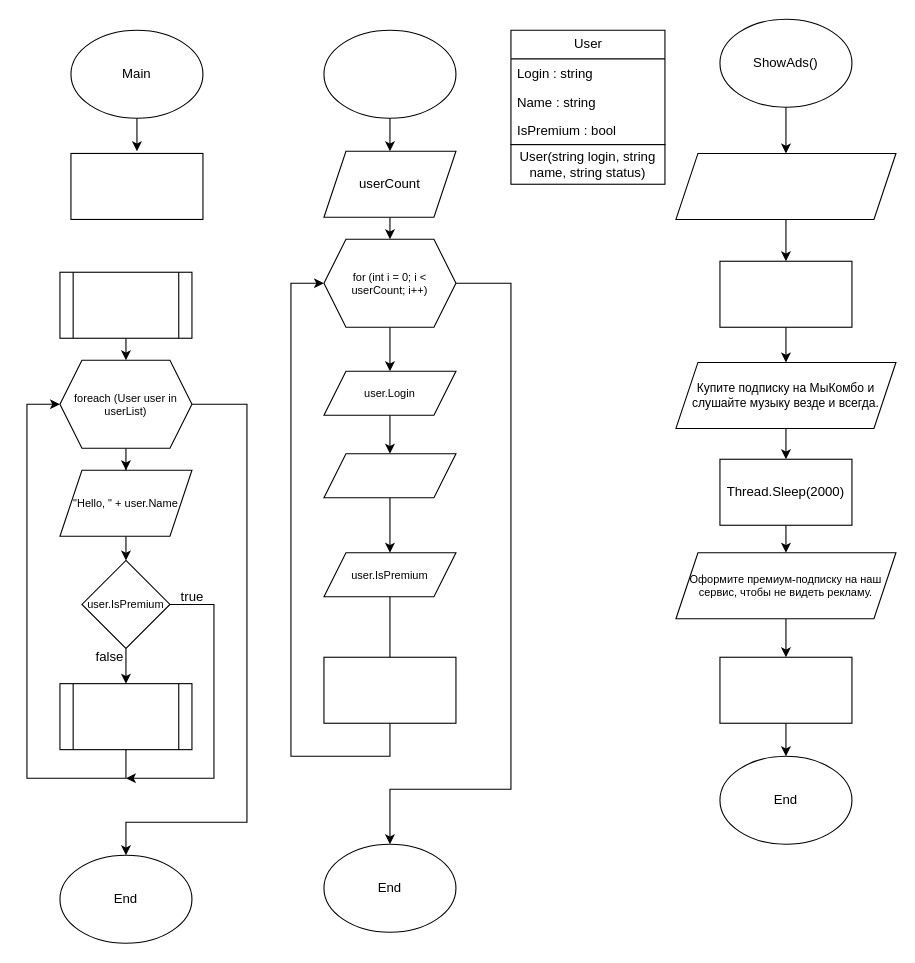
Image size: 915x963. Some labels were removed from this diagram. Here are the shapes that lost their labels. From the top down, the centre of each, then its label:
the point at 389,73: GetUserList()
the point at 136,185: List()
the point at 785,185: Посетите наш новый сайт с бесплатными играми free.games.for.a.fool.com
the point at 125,304: GetUserList
the point at 785,293: Thread .Sleep ( 1000 )
the point at 389,475: user.Name
the point at 389,689: userList.Add(new User(login, name, status))
the point at 785,689: Thread .Sleep (3 000 )
the point at 125,716: ShowAds
